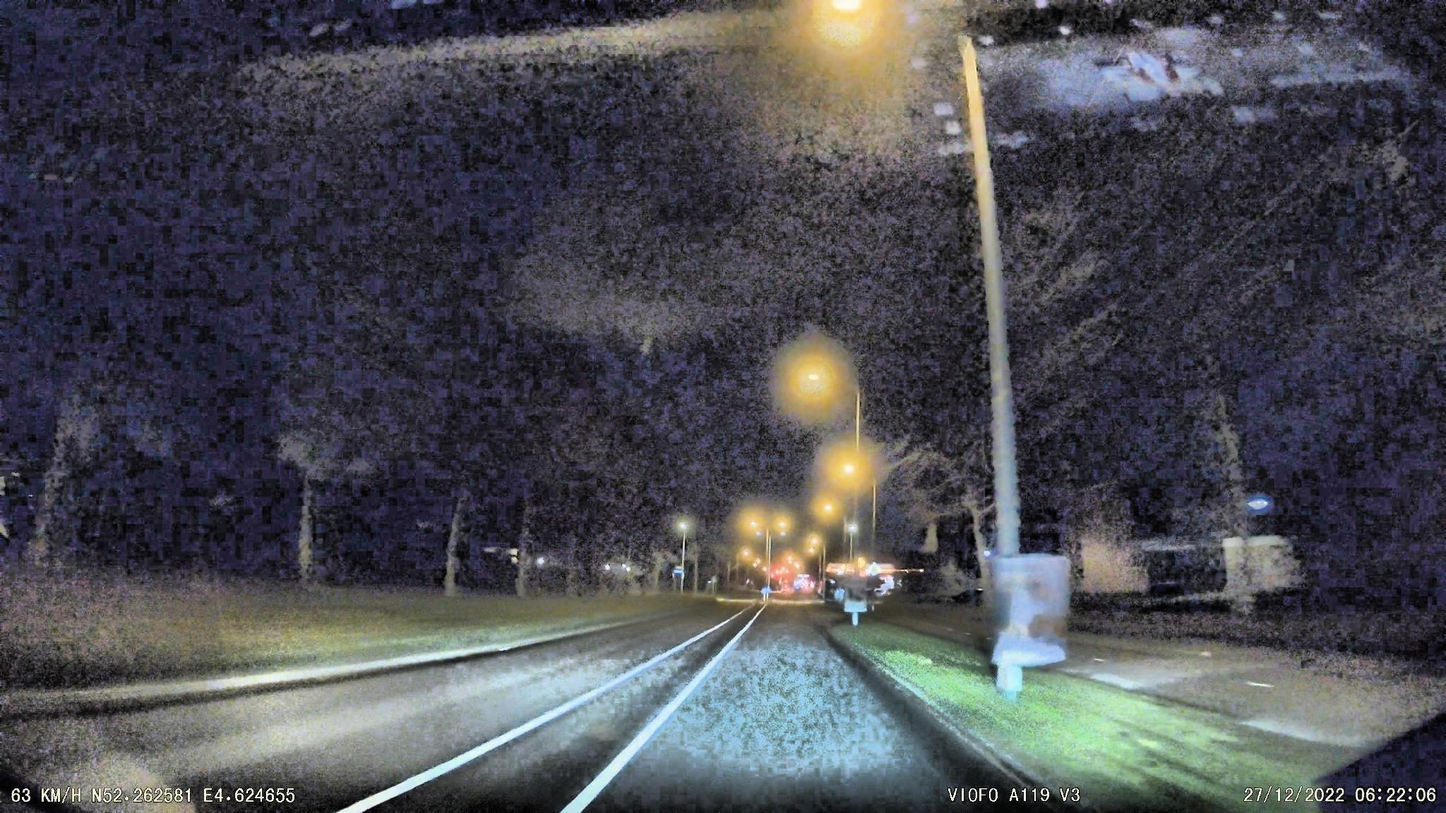Roads: (37, 604, 955, 813)
